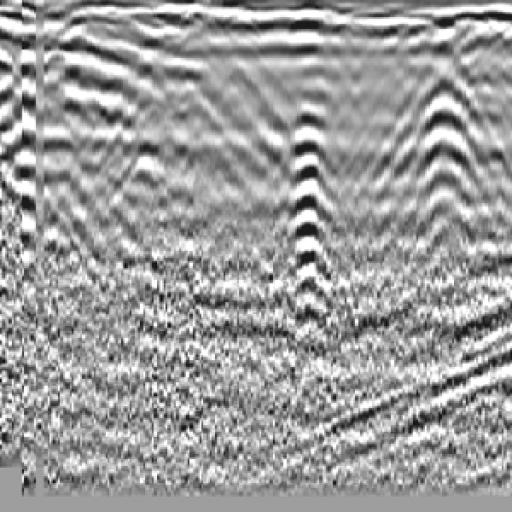non-metallic: (354, 40, 512, 236), (1, 42, 181, 212), (274, 106, 341, 310)
